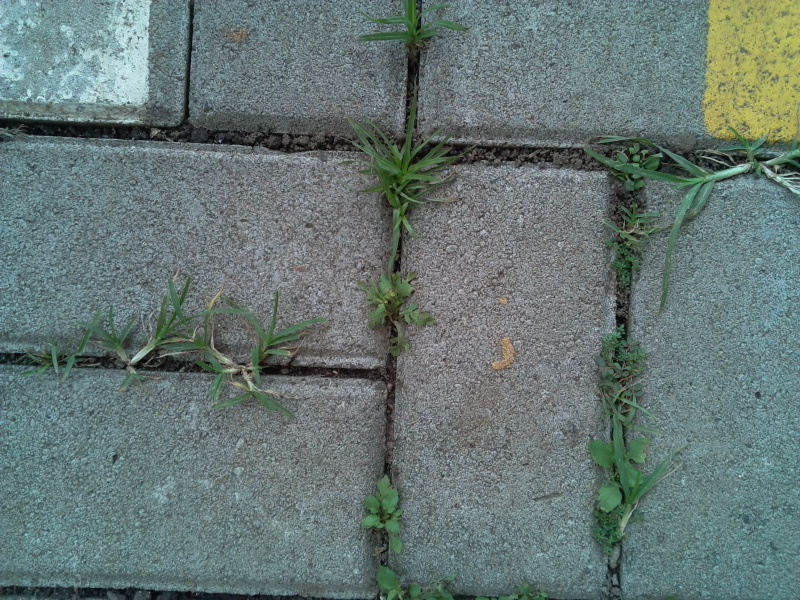Weed: (620, 107, 798, 280), (179, 303, 314, 418), (348, 118, 455, 234), (98, 280, 196, 384), (351, 267, 440, 358), (590, 323, 646, 418), (614, 457, 672, 543), (372, 3, 465, 56), (355, 473, 409, 556), (603, 204, 657, 285), (588, 428, 652, 484), (26, 329, 89, 382), (610, 141, 662, 189)
